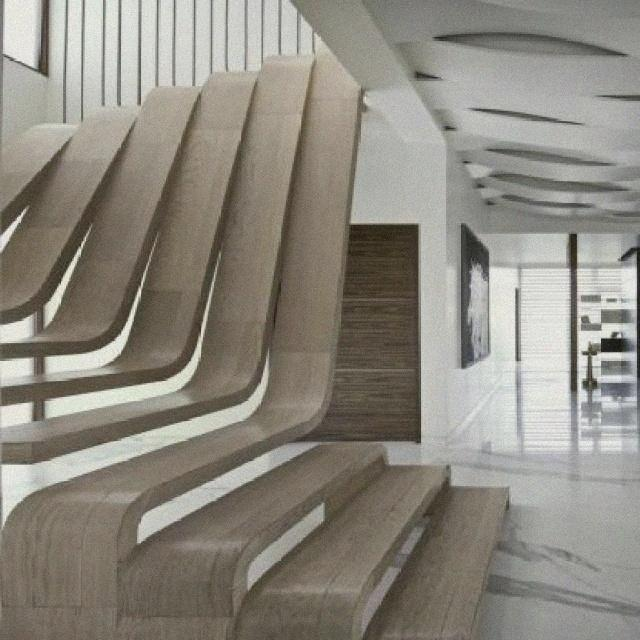stair: (15, 352, 597, 636)
